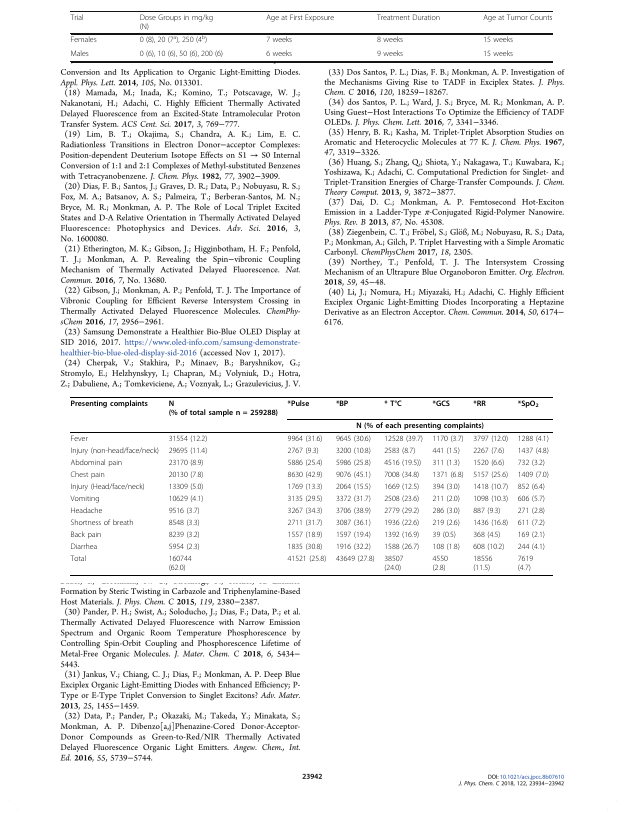borderless: (69, 395, 553, 575), (69, 10, 552, 61)
cell: (168, 399, 279, 417), (139, 14, 214, 32), (355, 421, 485, 431), (70, 446, 160, 456), (139, 50, 224, 60), (139, 34, 208, 46), (70, 482, 146, 492), (70, 399, 149, 408), (70, 518, 134, 528), (482, 14, 553, 23), (265, 14, 335, 23), (376, 14, 441, 23), (70, 458, 123, 468), (168, 554, 192, 572), (383, 434, 424, 444), (168, 434, 208, 444), (168, 446, 208, 456), (383, 458, 422, 468), (383, 554, 404, 572), (472, 554, 493, 572), (335, 434, 372, 444), (472, 434, 509, 444), (335, 446, 372, 456), (335, 458, 372, 468), (335, 470, 372, 480), (383, 470, 420, 480), (472, 470, 509, 480), (335, 482, 372, 492), (383, 482, 420, 492), (472, 482, 509, 492), (335, 494, 372, 504), (383, 494, 420, 504), (472, 494, 509, 504), (335, 506, 372, 516), (383, 506, 420, 516), (335, 518, 372, 528), (383, 518, 420, 528), (472, 518, 509, 528), (287, 434, 323, 444), (168, 458, 204, 468), (287, 458, 323, 468), (70, 470, 106, 480), (168, 470, 204, 480), (287, 470, 323, 480), (168, 482, 204, 492), (287, 482, 323, 492), (168, 494, 204, 504), (287, 494, 323, 504), (287, 506, 323, 516), (287, 518, 323, 528), (287, 554, 327, 563), (335, 554, 375, 563), (335, 530, 372, 539), (383, 530, 420, 539), (335, 542, 372, 551), (383, 542, 420, 551), (431, 434, 464, 444), (517, 434, 550, 444), (287, 446, 320, 456), (383, 446, 416, 456), (472, 446, 505, 456), (517, 446, 550, 456), (472, 458, 505, 468), (431, 470, 464, 480), (517, 470, 550, 480), (70, 506, 103, 516), (168, 506, 201, 516), (168, 518, 201, 528), (287, 530, 323, 539), (287, 542, 323, 551), (431, 554, 449, 572), (482, 36, 514, 46), (482, 50, 514, 60), (517, 554, 534, 572), (431, 446, 461, 456), (431, 458, 461, 468), (431, 482, 461, 492), (70, 494, 100, 504), (431, 494, 461, 504), (431, 506, 461, 516), (431, 518, 461, 528), (168, 530, 201, 539), (168, 542, 201, 551), (472, 542, 505, 551), (517, 458, 546, 468), (517, 482, 546, 492), (517, 494, 546, 504), (472, 506, 501, 516), (517, 506, 546, 516), (517, 518, 546, 528), (70, 530, 102, 539), (265, 36, 293, 46), (376, 36, 404, 46), (265, 50, 293, 60), (376, 50, 404, 60), (431, 542, 461, 551), (70, 36, 97, 46), (472, 530, 501, 539), (517, 530, 546, 539), (517, 542, 546, 551), (70, 542, 98, 551), (431, 530, 457, 539), (517, 399, 540, 409), (69, 50, 90, 60), (287, 399, 310, 408), (70, 434, 89, 444), (383, 399, 403, 408), (431, 399, 451, 408), (70, 554, 87, 563), (472, 399, 487, 408), (335, 399, 349, 408), (70, 14, 84, 23)
